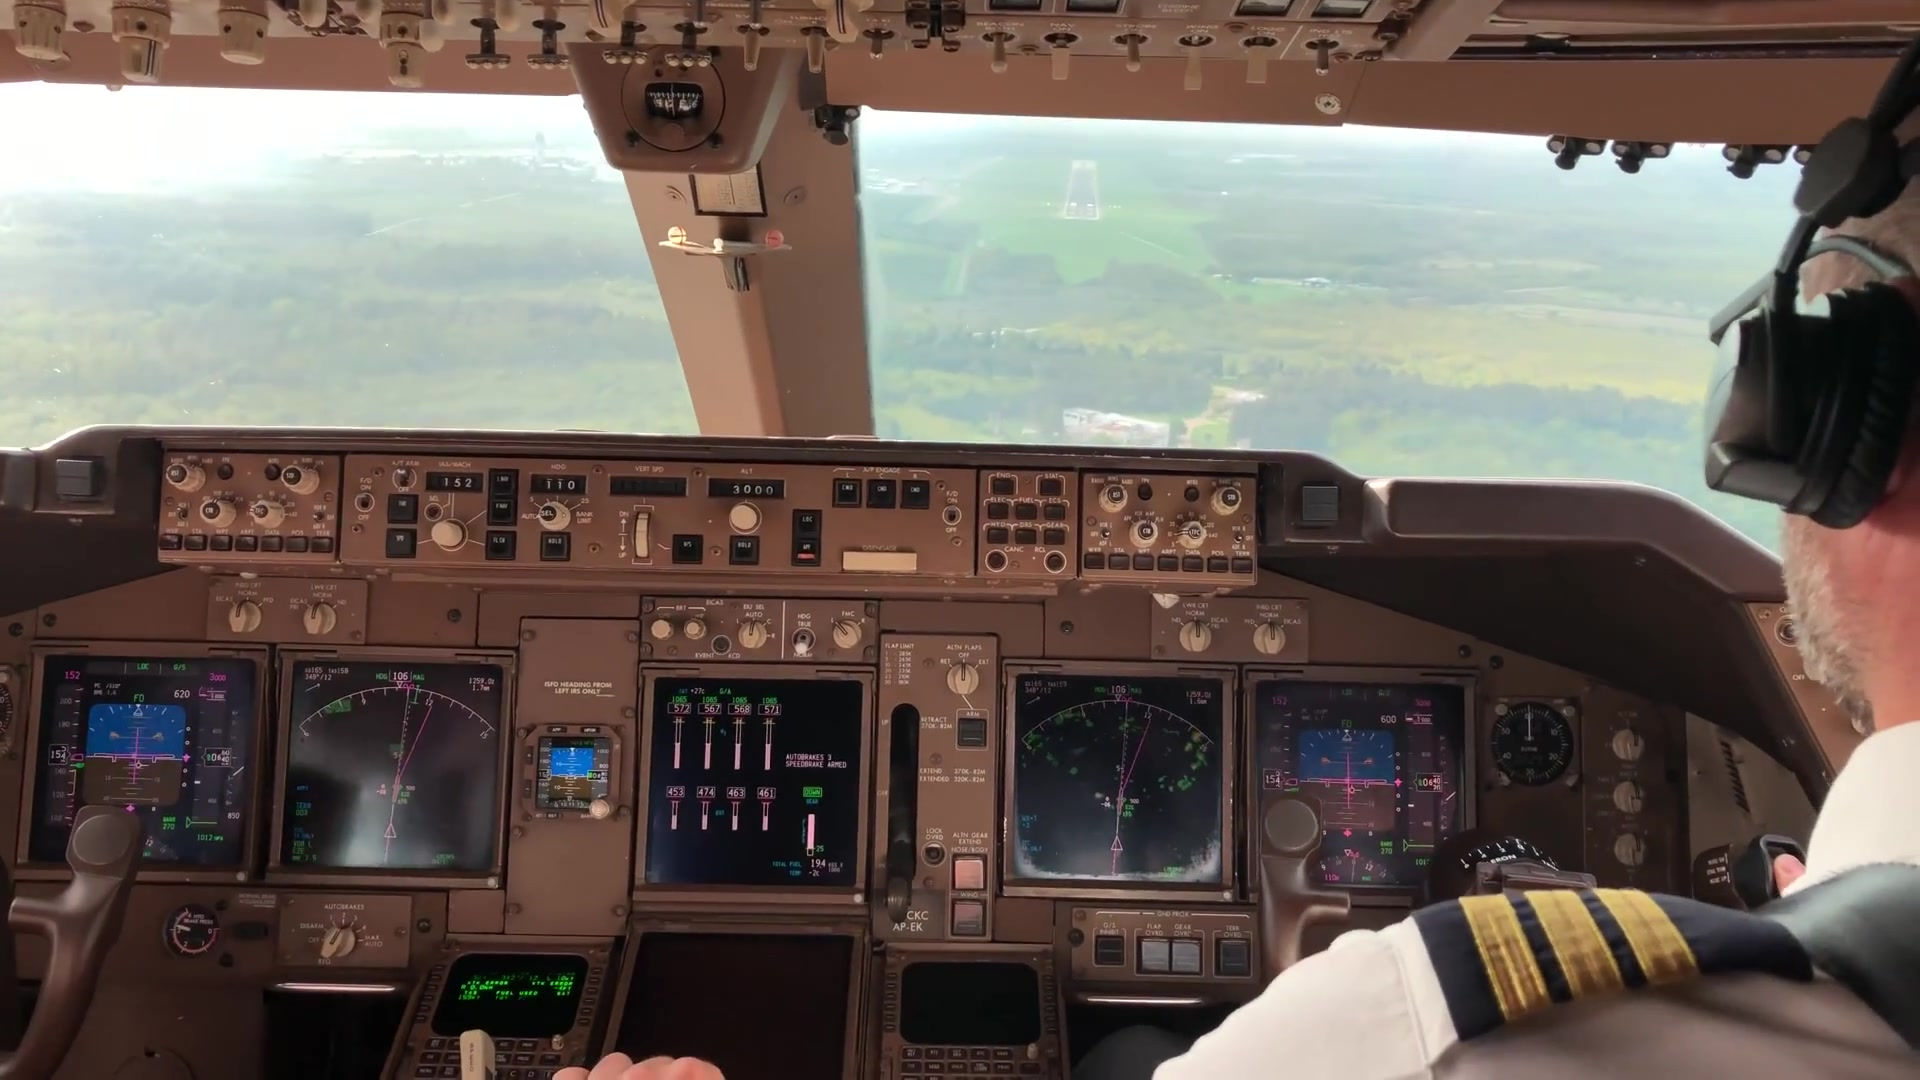runway: (1060, 160, 1102, 223)
